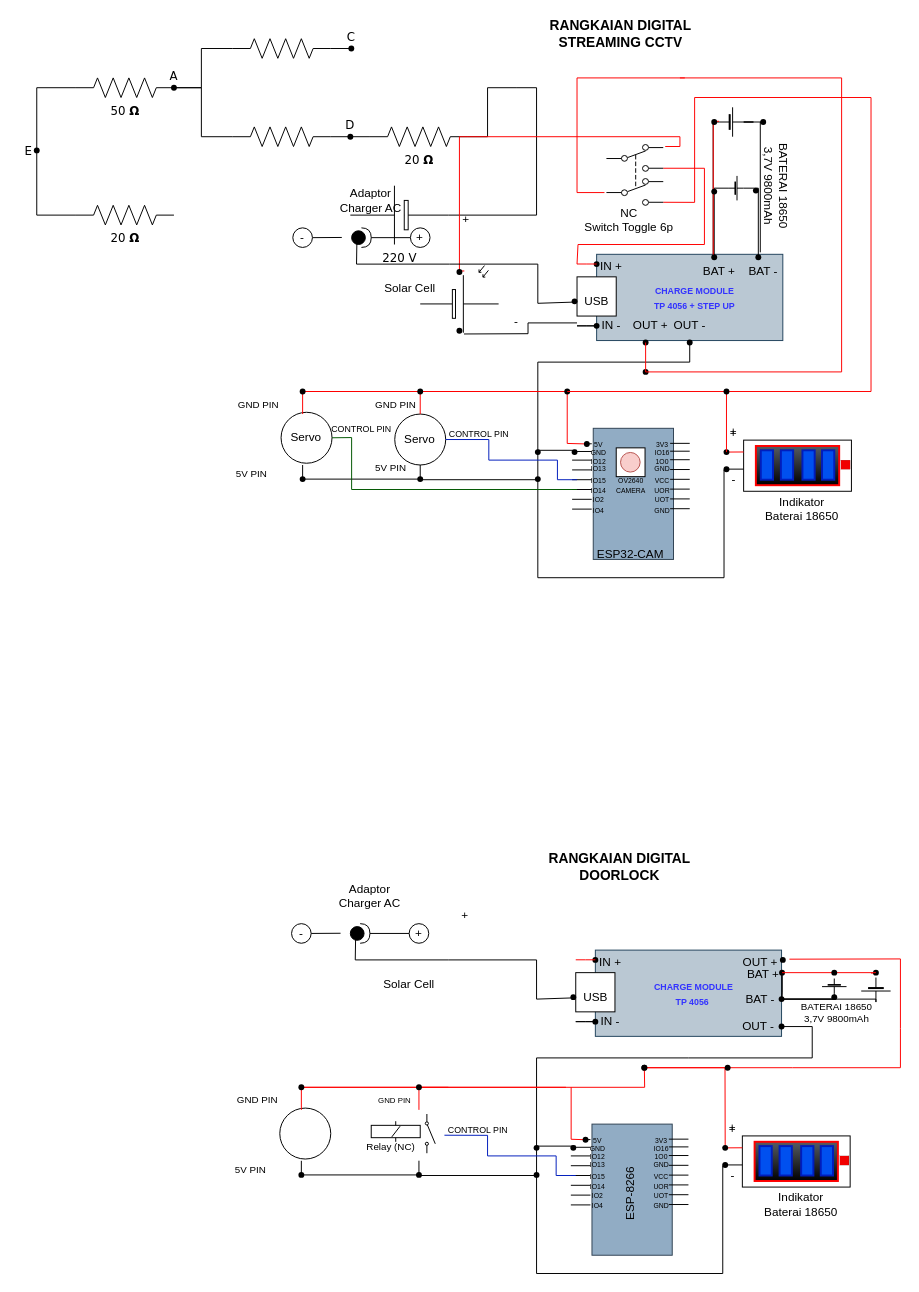
Image size: 919x1292. Some labels were removed from this diagram. The shapes that lost their labels are listed below. From the top down, each one's centre as x and y in pixels, then its label:
At (x=281, y=48): "40 Ω".
At (x=281, y=136): "70 Ω".
At (x=305, y=1133): "Solenoid".
